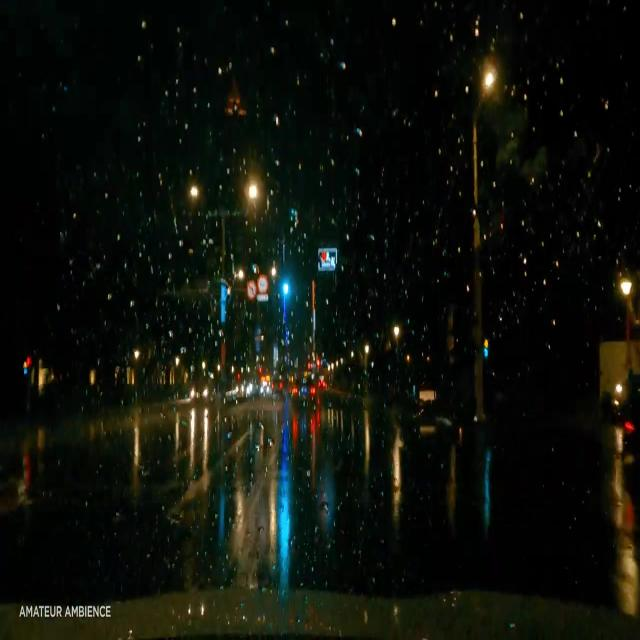Car: (290, 376, 315, 408)
